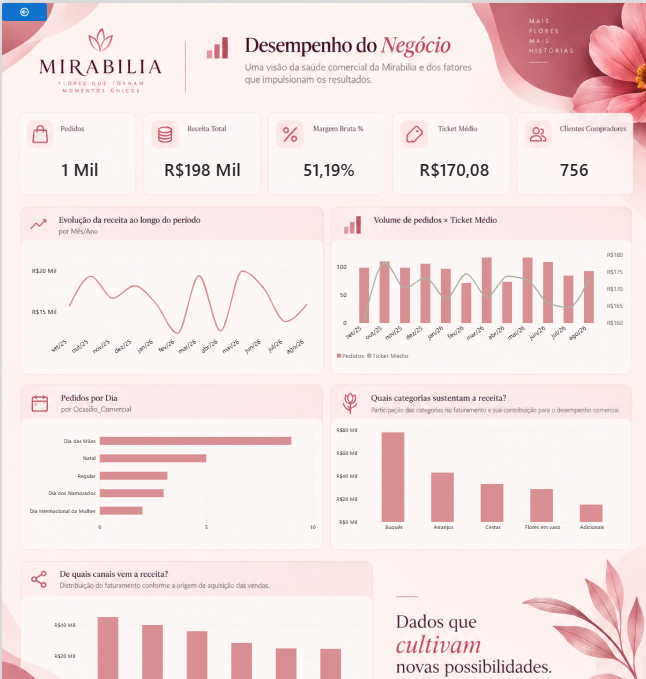

What the dashboard file says about the page in this screenshot:
{"tool":"powerbi","page":{"name":"🌷 Desempenho do Negócio","canvas":[1440,1800],"ordinal":0},"visuals":[{"type":"cardVisual","fields":{"Data":["Medidas.Pedidos"]},"box":[50,327.5,247.5,82.5],"z":0},{"type":"cardVisual","fields":{"Data":["Medidas.Clientes Compradores"]},"box":[1147.5,327.5,250,82.5],"z":1000},{"type":"cardVisual","fields":{"Data":["Medidas.Receita Total"]},"box":[317.5,317.5,257.5,105],"z":2000},{"type":"cardVisual","fields":{"Data":["Medidas.Margem Bruta %"]},"box":[595,317.5,260,105],"z":4000},{"type":"cardVisual","fields":{"Data":["Medidas.Ticket Médio"]},"box":[885,317.5,237.5,105],"z":5000},{"type":"lineChart","fields":{"Category":["DimData.Mes_Ano"],"Y":["Medidas.Receita Total"]},"box":[50,535,662.5,277.5],"z":6000},{"type":"lineClusteredColumnComboChart","title":"Volume de pedidos × Ticket Médio","fields":{"Category":["DimData.Mes_Ano"],"Y":["Medidas.Pedidos"],"Y2":["Medidas.Ticket Médio"]},"box":[725,535,672.5,277.5],"z":7000},{"type":"barChart","fields":{"Category":["DimData.Ocasiao_Comercial"],"Y":["Medidas.Pedidos por Dia"]},"box":[32.5,927.5,680,267.5],"z":8000},{"type":"columnChart","title":"Quais categorias sustentam a receita?","fields":{"Category":["DimProduto.Categoria"],"Y":["Medidas.Receita Total"]},"box":[725,927.5,672.5,267.5],"z":9000},{"type":"columnChart","title":"De quais canais vem a receita?","fields":{"Category":["DimCanal.Canal"],"Y":["Medidas.Receita Total"]},"box":[100,1322.5,712.5,260],"z":10000},{"type":"actionButton","box":[0,0,100,40],"z":11000}]}

Visuals, with their boxes on the page's 1440x1800 design canvas (x1, y1, x2, y2). These are canvas units, not pixel positions in the 646x679 screenshot, which may show the page scaled, cropped or inside an application window:
cardVisual - Medidas.Pedidos: box=[50, 328, 298, 410]
cardVisual - Medidas.Clientes Compradores: box=[1148, 328, 1398, 410]
cardVisual - Medidas.Receita Total: box=[318, 318, 575, 422]
cardVisual - Medidas.Margem Bruta %: box=[595, 318, 855, 422]
cardVisual - Medidas.Ticket Médio: box=[885, 318, 1122, 422]
lineChart - DimData.Mes_Ano x Medidas.Receita Total: box=[50, 535, 712, 812]
"Volume de pedidos × Ticket Médio" lineClusteredColumnComboChart: box=[725, 535, 1398, 812]
barChart - DimData.Ocasiao_Comercial x Medidas.Pedidos por Dia: box=[32, 928, 712, 1195]
"Quais categorias sustentam a receita?" columnChart: box=[725, 928, 1398, 1195]
"De quais canais vem a receita?" columnChart: box=[100, 1322, 812, 1582]
actionButton: box=[0, 0, 100, 40]
